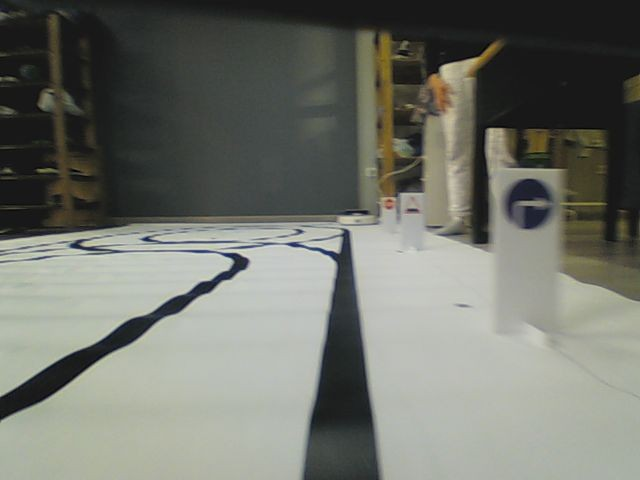Right: (503, 177, 553, 230)
